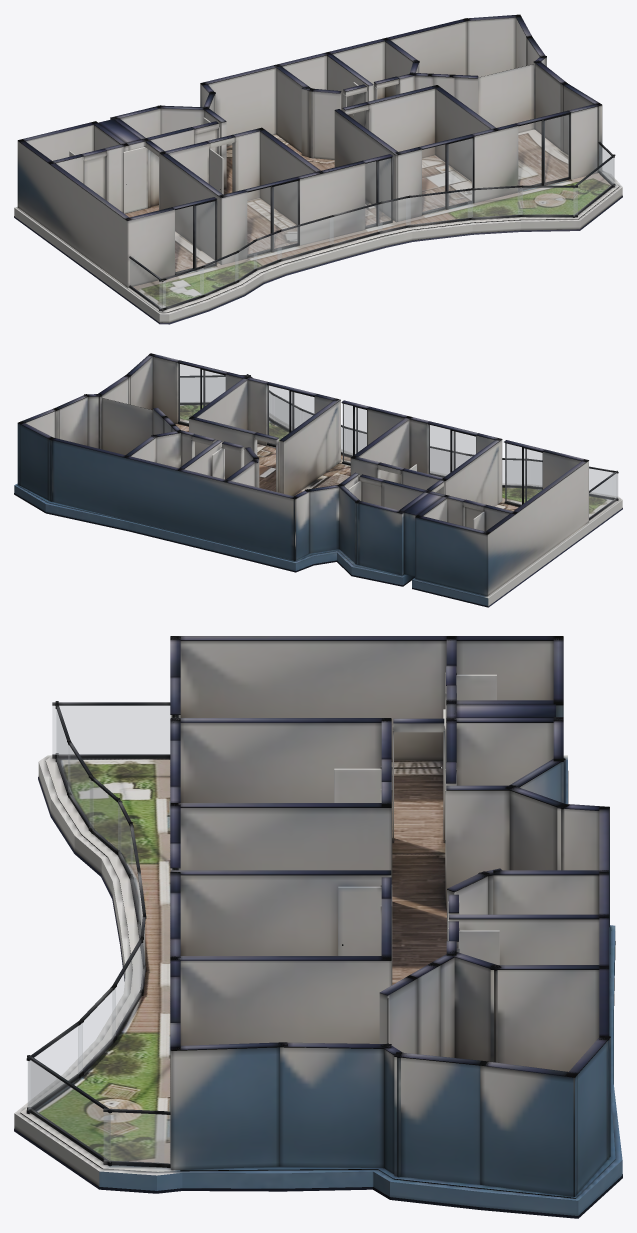
3 views of the same model, one above another, from view 1: azimuth 30°, elevation 25°; view 2: azimuth 150°, elevation 25°; view 3: azimuth 270°, elevation 25° (orthographic). The views are drawn at different scales.
Parts seen in each view (by area): view 1: plan, glass4_m, glass3_m, glass1_m, glass0_m, railg5_m, railg3_m, railg8_m, railg4_m, railg7_m, glass2_m, railg12_m (+6 smaller); view 2: plan, glass0_m, glass4_m, glass3_m, glass1_m, glass2_m, railg2_m, railg14_m, railg8_m, railg12_m, railg10_m, railg4_m; view 3: plan, railg14_m, railg2_m, railg1_m, railg3_m, railg4_m, railg10_m, railg5_m, railg11_m, railg0_m.
Boxes of the visible parts, x1,y1,x2,y2 form: plan: (14, 14, 622, 324); glass4_m: (518, 115, 568, 185); glass3_m: (422, 138, 472, 212); glass1_m: (247, 181, 297, 254); glass0_m: (175, 201, 214, 272); railg5_m: (406, 190, 472, 225); railg3_m: (518, 187, 577, 214); railg8_m: (278, 217, 333, 259); railg4_m: (468, 188, 522, 217); railg7_m: (329, 204, 382, 244); glass2_m: (365, 158, 390, 226); railg12_m: (161, 268, 203, 308); plan: (14, 353, 622, 607); glass0_m: (505, 443, 542, 504); glass4_m: (178, 364, 225, 423); glass3_m: (267, 385, 314, 445); glass1_m: (429, 425, 475, 477); glass2_m: (342, 404, 366, 463); railg2_m: (180, 377, 224, 402); railg14_m: (589, 474, 616, 517); railg8_m: (430, 448, 470, 475); railg12_m: (589, 468, 612, 496); railg10_m: (502, 460, 527, 485); railg4_m: (275, 397, 299, 428); plan: (14, 636, 622, 1218); railg14_m: (52, 706, 170, 754); railg2_m: (28, 1060, 110, 1162); railg1_m: (104, 1112, 163, 1163); railg3_m: (28, 1023, 82, 1109); railg4_m: (78, 988, 115, 1074); railg10_m: (90, 779, 120, 852); railg5_m: (112, 943, 142, 1038); railg11_m: (68, 745, 93, 829); railg0_m: (155, 1114, 170, 1163).
Size of the model in its own units: 18.03 by 2.62 by 10.41.
2 materials, 1 textured.
